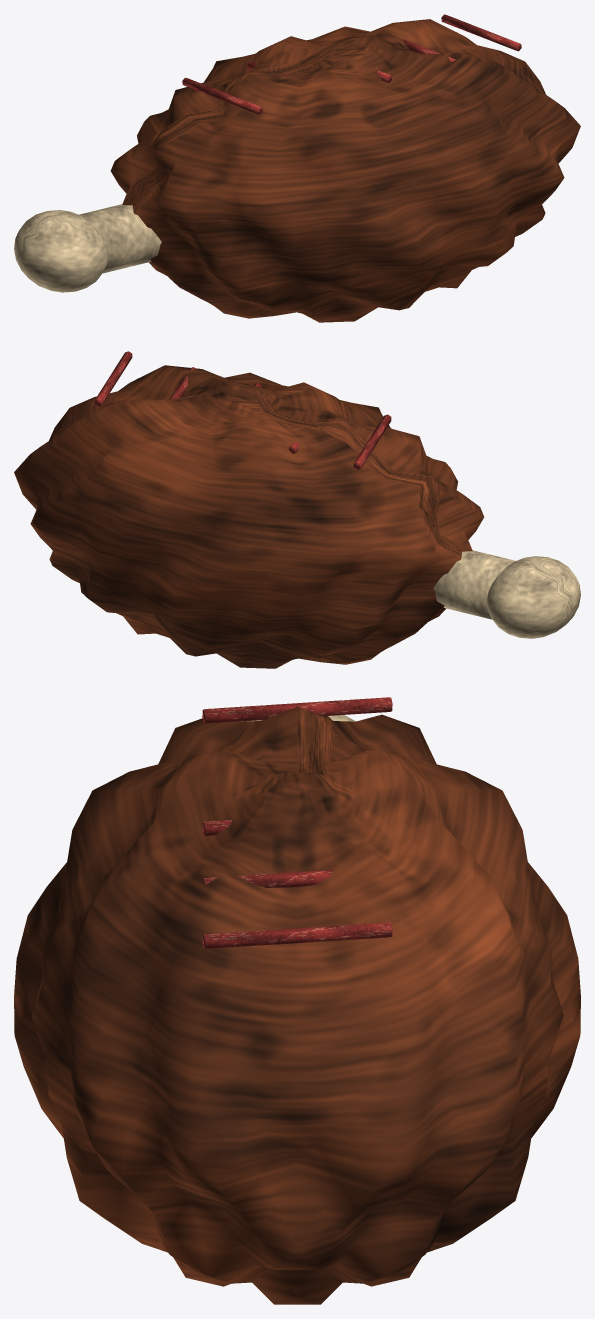
File: roast_meat.glb
3 views of the same model, one above another, from view 1: azimuth 30°, elevation 25°; view 2: azimuth 150°, elevation 25°; view 3: azimuth 270°, elevation 25° (orthographic). The views are drawn at different scales.
Visible parts, largest first — view 1: roast, bone, meat; view 2: roast, bone, meat; view 3: roast, meat.
Boxes of the visible parts, x1,y1,x2,y2 form: roast: [110, 19, 580, 322]; bone: [14, 204, 161, 292]; meat: [182, 14, 521, 114]; roast: [14, 365, 484, 668]; bone: [433, 550, 580, 638]; meat: [94, 351, 391, 469]; roast: [14, 706, 580, 1304]; meat: [202, 697, 392, 948].
Bounding box in the file's own units: 0.4108 × 0.1925 × 0.2127.
Materials: 3 (3 with a texture image).
